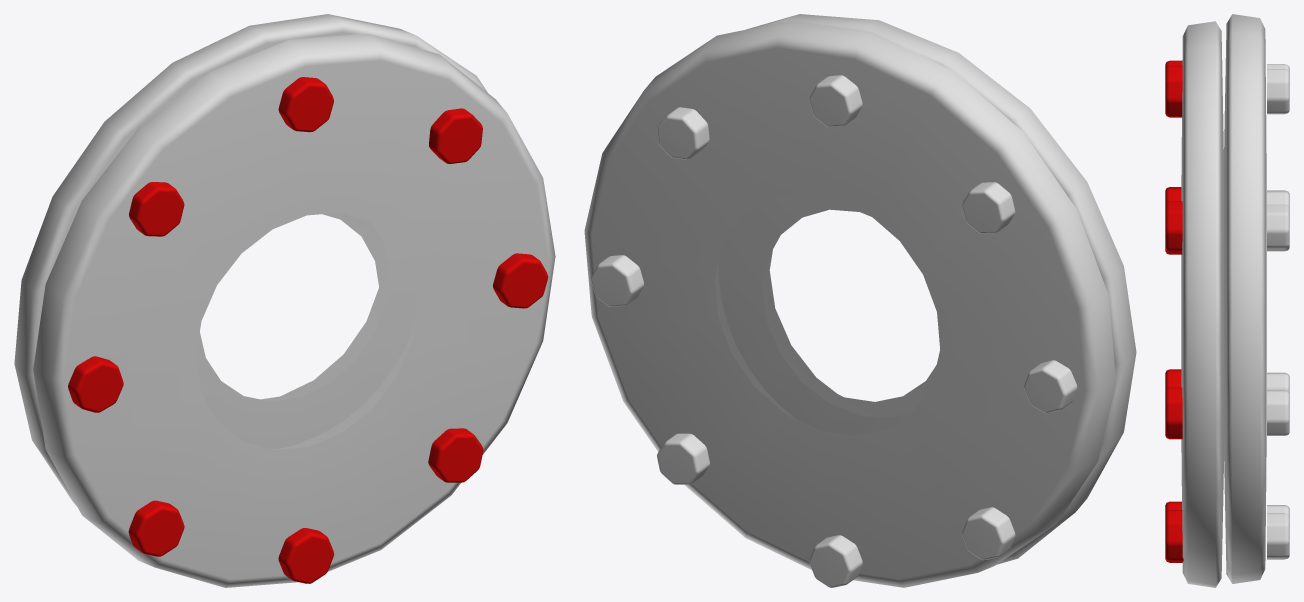
The model's file is structure_03.FBX.
The picture shows the model from 3 angles, left to right: view 1: azimuth 30°, elevation 25°; view 2: azimuth 150°, elevation 25°; view 3: azimuth 270°, elevation 25°; orthographic projection. The views are drawn at different scales.
Visible parts, largest first — view 1: sm_en_pipe_01_008; view 2: sm_en_pipe_01_008; view 3: sm_en_pipe_01_008.
Part boxes in pixels (x1,y1,x2,y2): sm_en_pipe_01_008: [14, 14, 555, 587]; sm_en_pipe_01_008: [584, 14, 1136, 587]; sm_en_pipe_01_008: [1165, 14, 1289, 587].
Bounding box in the file's own units: 79.66 × 80.42 × 17.33.
